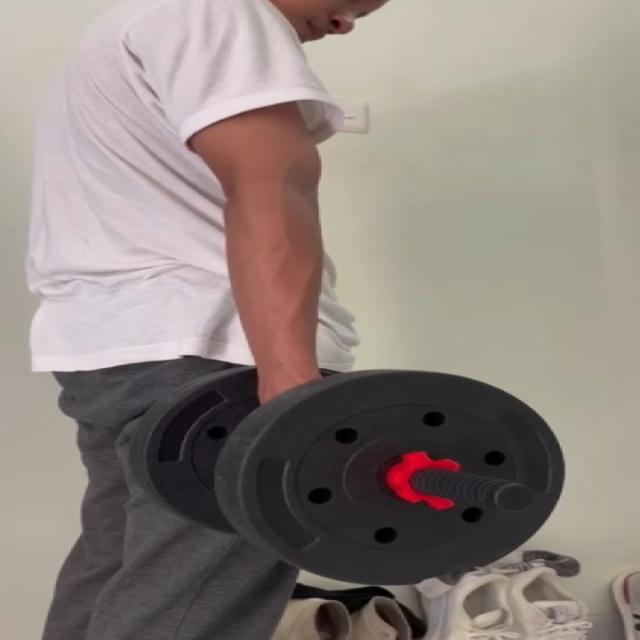dumbbell: (126, 362, 566, 584)
